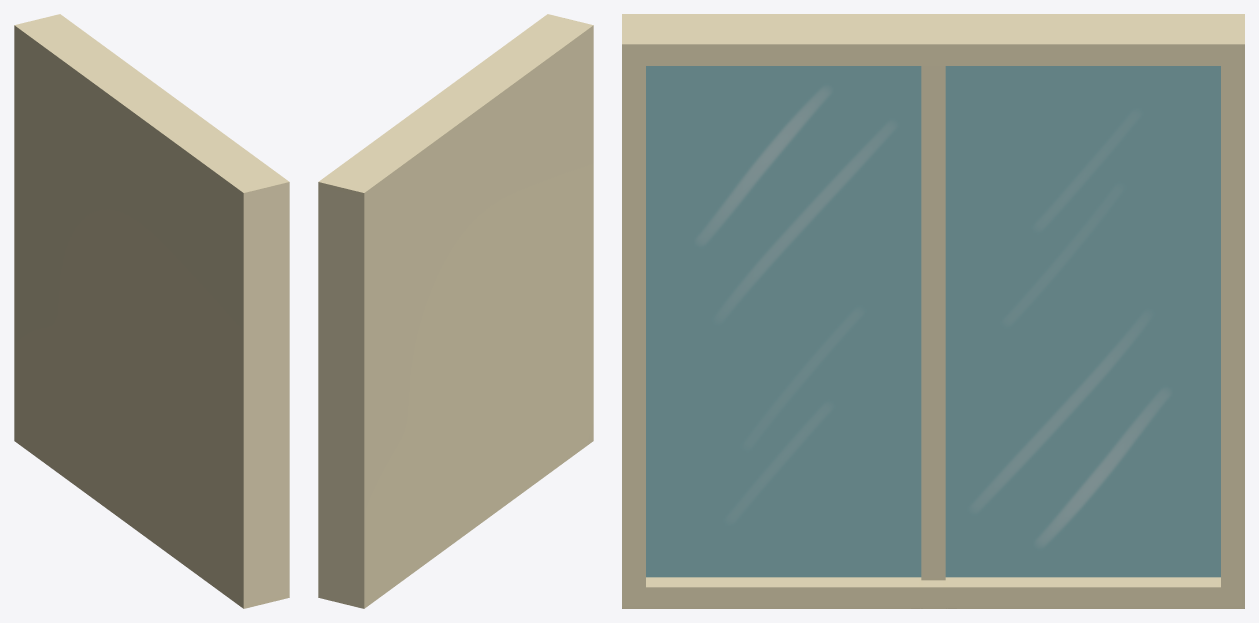
Rendered from janela.fbx.
3 renders of one model, left to right at view 1: azimuth 30°, elevation 25°; view 2: azimuth 150°, elevation 25°; view 3: azimuth 270°, elevation 25°, orthographic. The views are drawn at different scales.
Parts seen in each view (by area): view 1: Cube; view 2: Cube; view 3: Cube.
Boxes of the visible parts, <box> form: Cube: <box>14,14,289,608</box>; Cube: <box>318,14,593,608</box>; Cube: <box>622,14,1244,608</box>.
Bounding box in the file's own units: 92.19 × 798 × 798.
